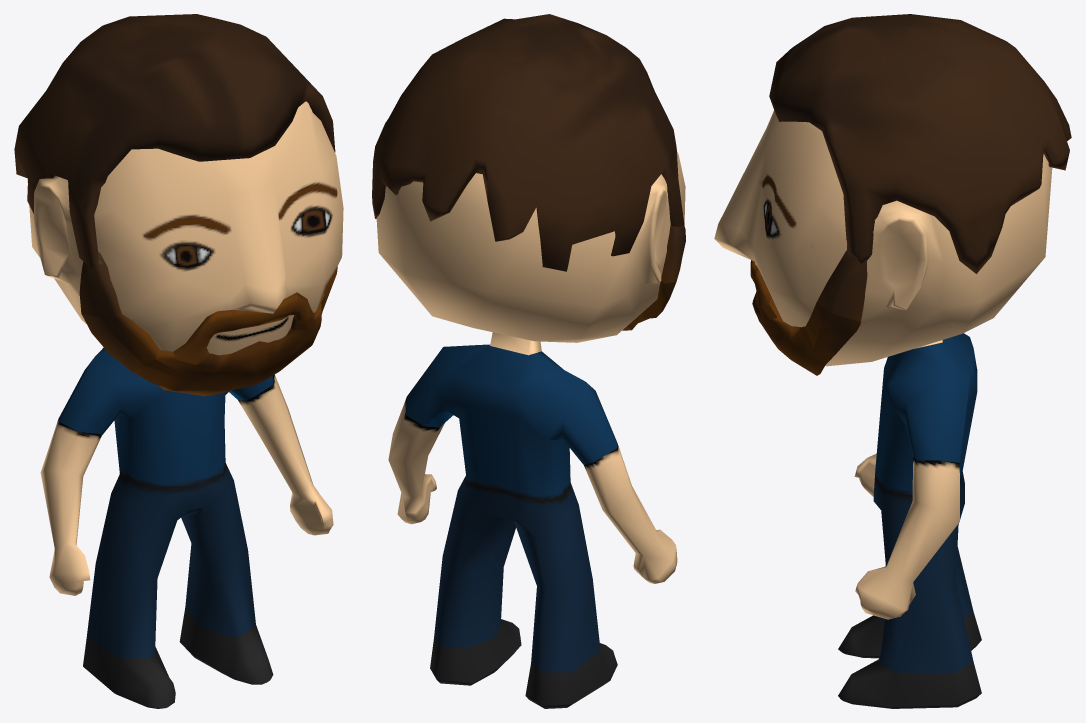
The model's file is Adam_V3.fbx.
The picture shows the model from 3 angles, left to right: view 1: azimuth 30°, elevation 25°; view 2: azimuth 150°, elevation 25°; view 3: azimuth 270°, elevation 25°; orthographic projection.
Parts seen in each view (by area): view 1: Adam_body, Adam_head, Adam_hair_high, Adam_beard; view 2: Adam_body, Adam_hair_high, Adam_head, Adam_beard; view 3: Adam_hair_high, Adam_head, Adam_body, Adam_beard.
Boxes of the visible parts, box(x1,y1,x2,y2) form: Adam_body: box(40, 347, 333, 708); Adam_head: box(27, 101, 343, 355); Adam_hair_high: box(14, 14, 335, 267); Adam_beard: box(79, 252, 337, 396); Adam_body: box(388, 332, 677, 708); Adam_hair_high: box(372, 14, 684, 271); Adam_head: box(376, 151, 685, 342); Adam_beard: box(622, 224, 685, 330); Adam_hair_high: box(769, 14, 1071, 273); Adam_head: box(714, 110, 1052, 366); Adam_body: box(838, 333, 981, 708); Adam_beard: box(750, 250, 867, 375).
Size of the model in its own units: 460 by 1009 by 504.
